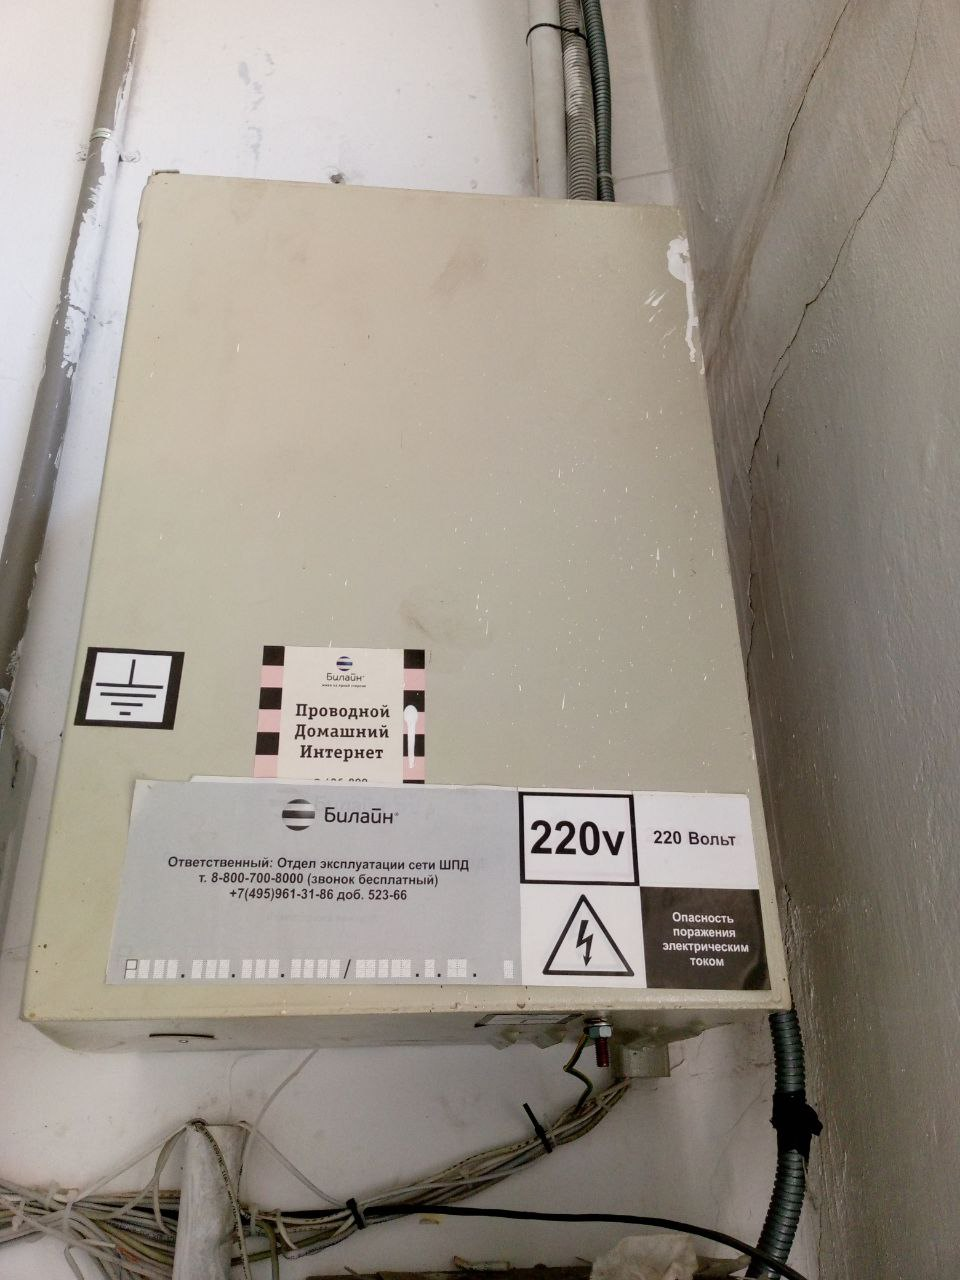sv-5: (14, 160, 810, 1062)
